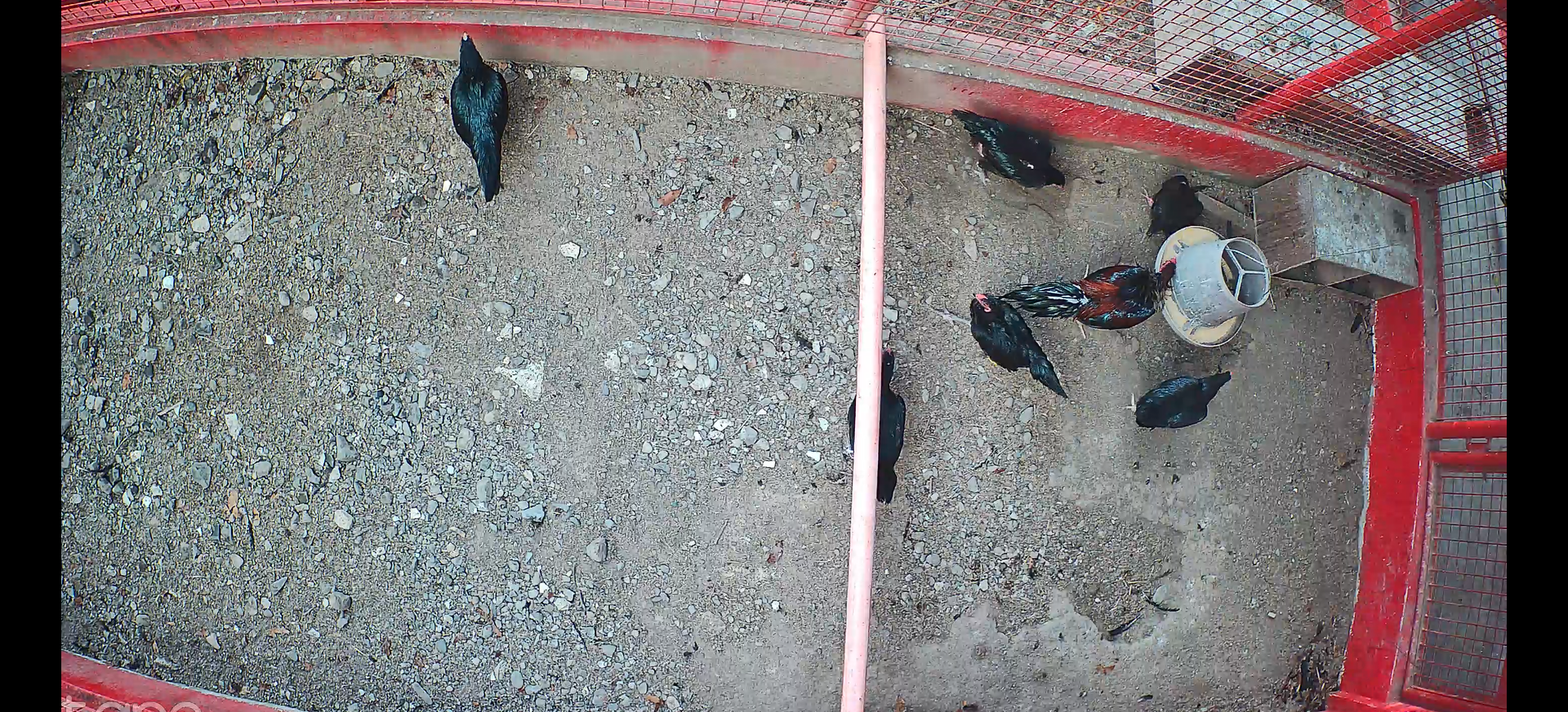Chicken: (927, 293, 1068, 398), (948, 105, 1067, 197), (448, 26, 509, 202), (846, 347, 907, 505), (1123, 368, 1232, 432), (1138, 170, 1205, 237)
Feeder: (1155, 227, 1270, 348)
Rooster: (1000, 255, 1177, 340)
